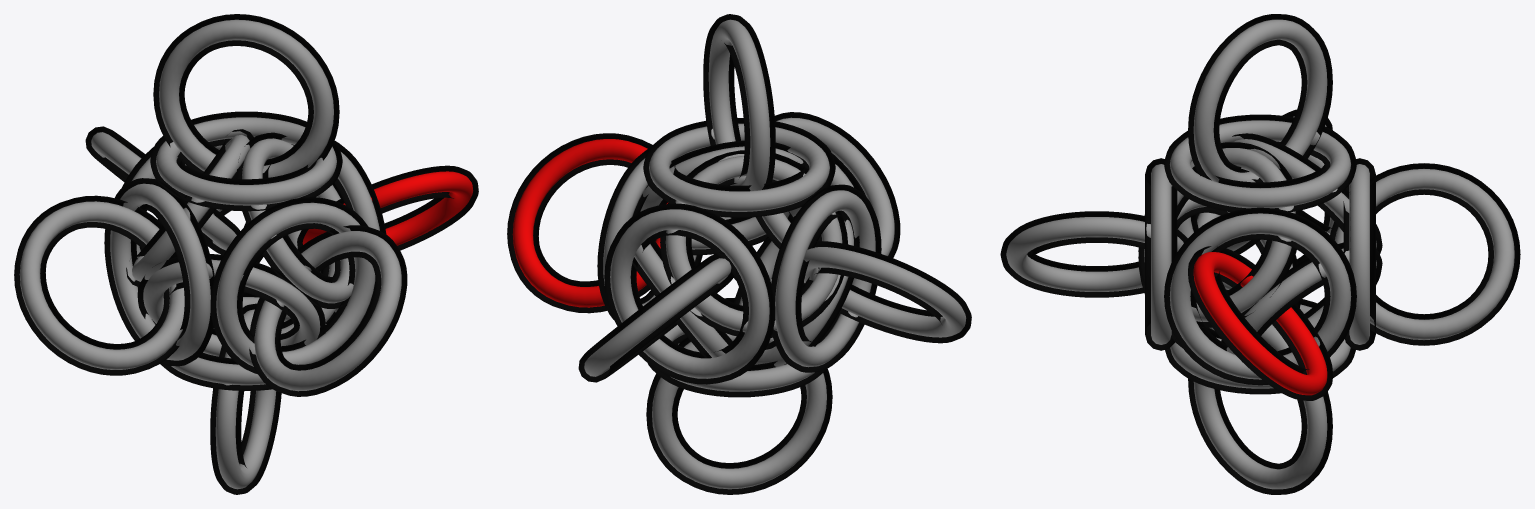
Rendered from tetraorb_line_step_02.glb.
3 renders of one model, left to right at view 1: azimuth 30°, elevation 25°; view 2: azimuth 150°, elevation 25°; view 3: azimuth 270°, elevation 25°, orthographic.
Parts seen in each view (by area): view 1: Torus.517, Torus.520, Torus.515, Torus.509, Torus.514, Torus.511, Torus.518, Torus.519, Torus.508, Torus.507, Torus.505, Torus.516 (+3 smaller); view 2: Torus.510, Torus.514, Torus.518, Torus.519, Torus.511, Torus.520, Torus.517, Torus.505, Torus.516, Torus.515, Torus.512, Torus.513 (+4 smaller); view 3: Torus.513, Torus.516, Torus.517, Torus.519, Torus.511, Torus.515, Torus.518, Torus.509, Torus.510, Torus.507, Torus.506, Torus.505 (+4 smaller).
Boxes of the visible parts, x1,y1,x2,y2 form: Torus.517: (153, 14, 339, 177); Torus.520: (14, 195, 184, 375); Torus.515: (249, 225, 407, 396); Torus.509: (210, 197, 375, 374); Torus.514: (104, 178, 216, 366); Torus.511: (150, 111, 342, 211); Torus.518: (210, 303, 281, 494); Torus.519: (297, 165, 478, 250); Torus.508: (137, 254, 325, 356); Torus.507: (236, 132, 353, 308); Torus.505: (126, 129, 253, 286); Torus.516: (85, 126, 240, 254); Torus.510: (604, 203, 775, 384); Torus.514: (769, 184, 881, 372); Torus.518: (646, 333, 832, 494); Torus.519: (507, 133, 668, 313); Torus.511: (643, 118, 835, 217); Torus.520: (803, 241, 971, 343); Torus.517: (703, 14, 775, 190); Torus.505: (660, 150, 848, 337); Torus.516: (578, 252, 736, 382); Torus.515: (755, 112, 900, 257); Torus.512: (647, 298, 826, 397); Torus.513: (597, 147, 702, 320); Torus.513: (1164, 207, 1356, 385); Torus.516: (1330, 163, 1520, 345); Torus.517: (1188, 14, 1332, 182); Torus.519: (1188, 246, 1332, 400); Torus.511: (1164, 114, 1356, 213); Torus.515: (1000, 211, 1187, 297); Torus.518: (1188, 324, 1332, 494); Torus.509: (1145, 158, 1177, 350); Torus.510: (1343, 158, 1375, 350); Torus.507: (1138, 142, 1301, 327); Torus.506: (1221, 242, 1382, 354); Torus.505: (1232, 133, 1382, 253).
Bounding box in the file's own units: 9.06 × 9.06 × 9.06.
